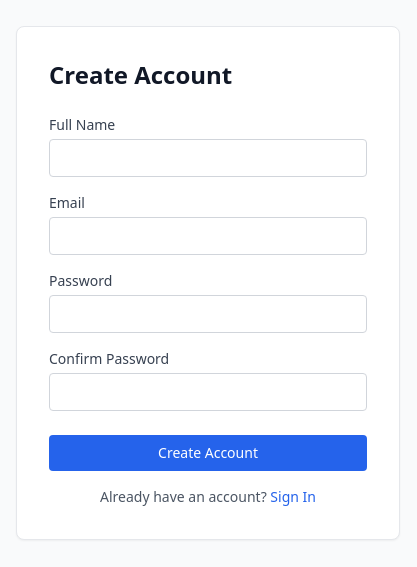
Test: RegisterPage › shows validation error when passwords do not match
Step 1. Type "test@example.com" into the field labelled "Email" → [208, 236], box x1=49 y1=217 x2=367 y2=255
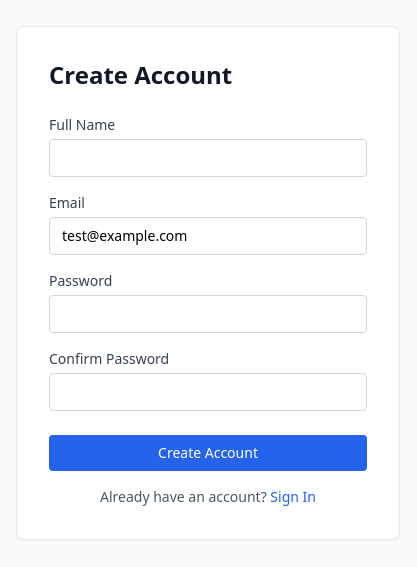
Step 2. Type "password123" into the password field labelled "Password" → [208, 314], box x1=49 y1=295 x2=367 y2=333
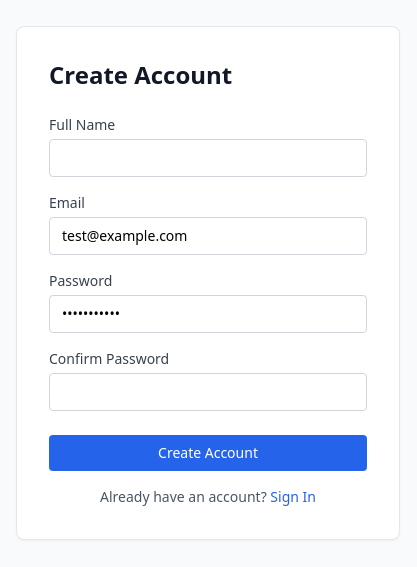
Step 3. Type "different" into the password field labelled "Confirm Password" → [208, 392], box x1=49 y1=373 x2=367 y2=411
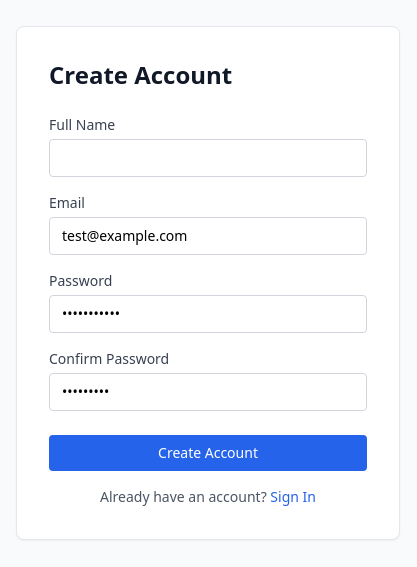
Step 4. Click the button "Create Account" → [208, 453], box x1=49 y1=435 x2=367 y2=471
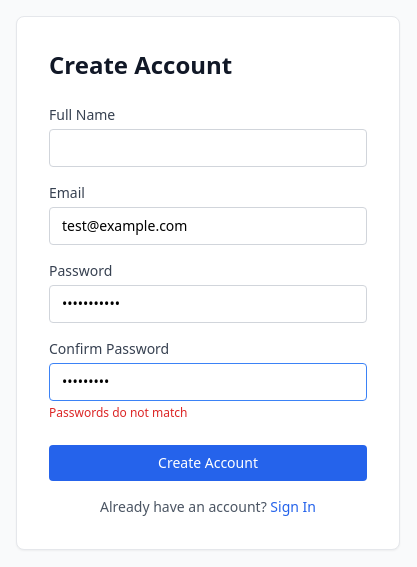
Check: the text "Passwords do not match" is shown, box x1=49 y1=404 x2=188 y2=421
